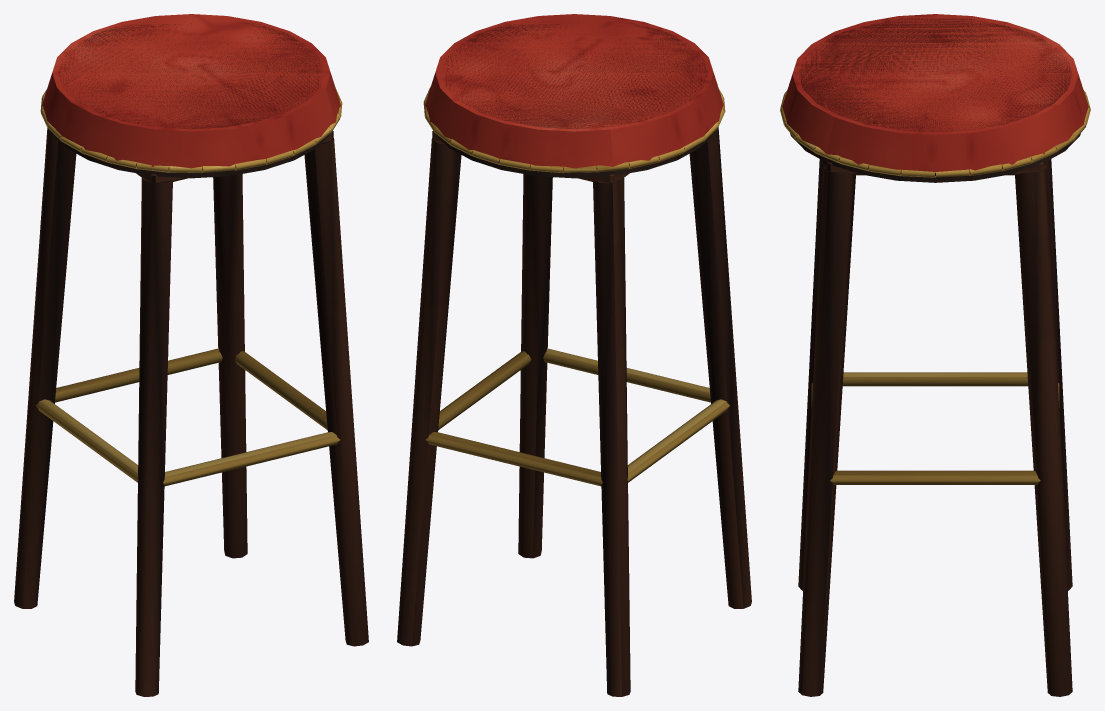
File: stool_bar.glb
3 views of the same model, side by side, from view 1: azimuth 30°, elevation 25°; view 2: azimuth 150°, elevation 25°; view 3: azimuth 270°, elevation 25° (orthographic). The views are drawn at different scales.
Parts seen in each view (by area): view 1: stool_bar; view 2: stool_bar; view 3: stool_bar.
Boxes of the visible parts, x1,y1,x2,y2 form: stool_bar: [14, 14, 368, 696]; stool_bar: [397, 14, 751, 696]; stool_bar: [780, 14, 1090, 696].
Size of the model in its own units: 0.3731 by 0.7511 by 0.3739.
Materials: 4 (4 with a texture image).
